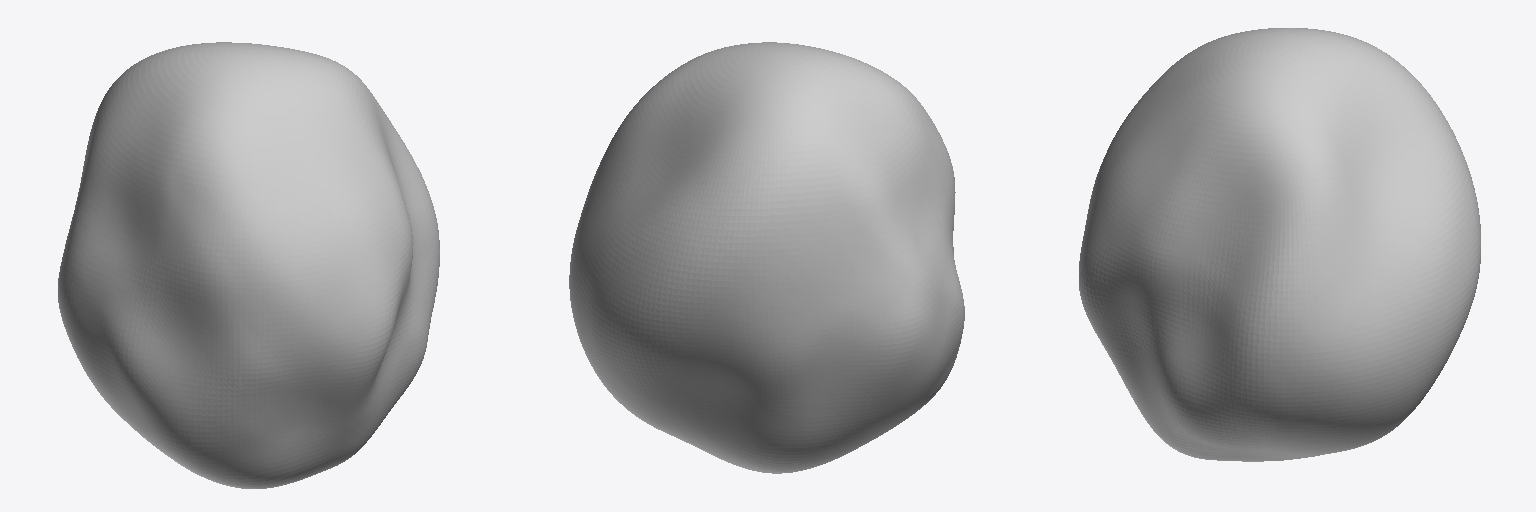
The model's file is rainDrop.obj.
3 views of the same model, side by side, from view 1: azimuth 30°, elevation 25°; view 2: azimuth 150°, elevation 25°; view 3: azimuth 270°, elevation 25° (orthographic).
Parts seen in each view (by area): view 1: Sphere; view 2: Sphere; view 3: Sphere.
Part boxes in pixels (left/top/right/bottom): Sphere: left=58, top=42, right=439, bottom=488; Sphere: left=569, top=42, right=964, bottom=473; Sphere: left=1079, top=28, right=1480, bottom=461.
Bounding box in the file's own units: 2.1 × 2.37 × 2.1.